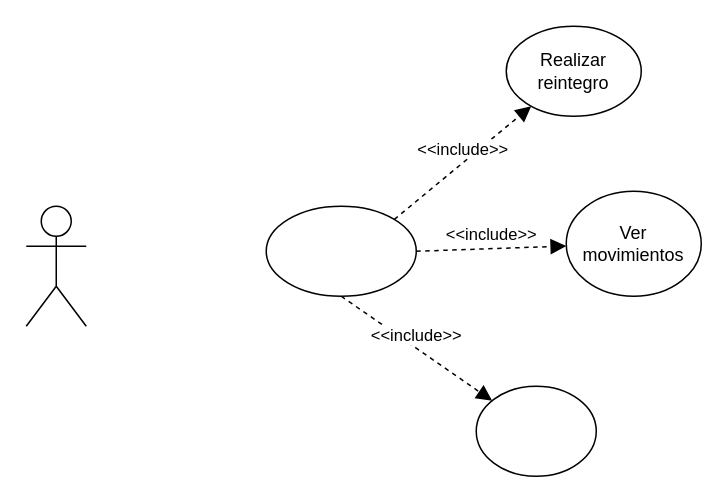
Some shapes in this 728 by 503 pixel diagram are drawn without their labels. Each missing label, with the centre of its shape:
Actor: pixel 55 265
instalar cajero: pixel 340 250
